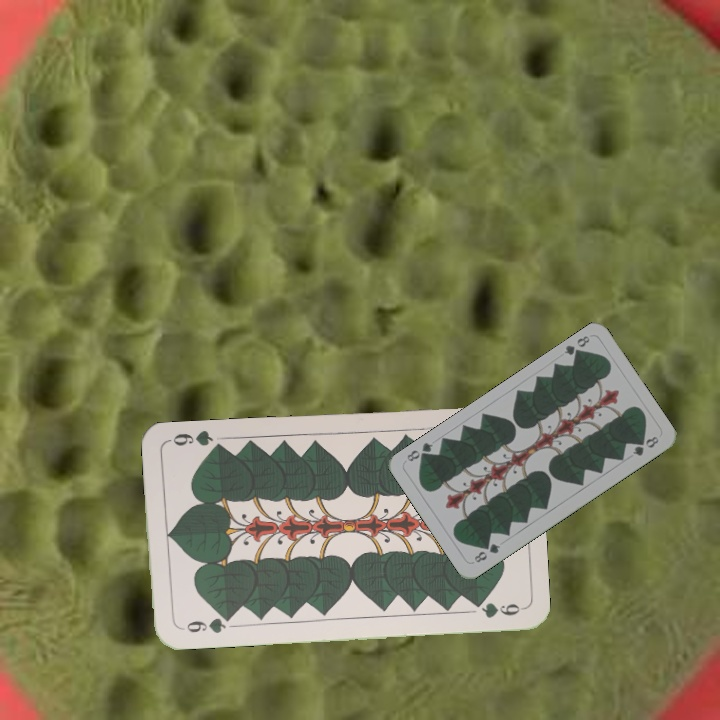G8: (560, 331, 592, 361), (470, 539, 503, 565)
G9: (175, 612, 234, 636)
